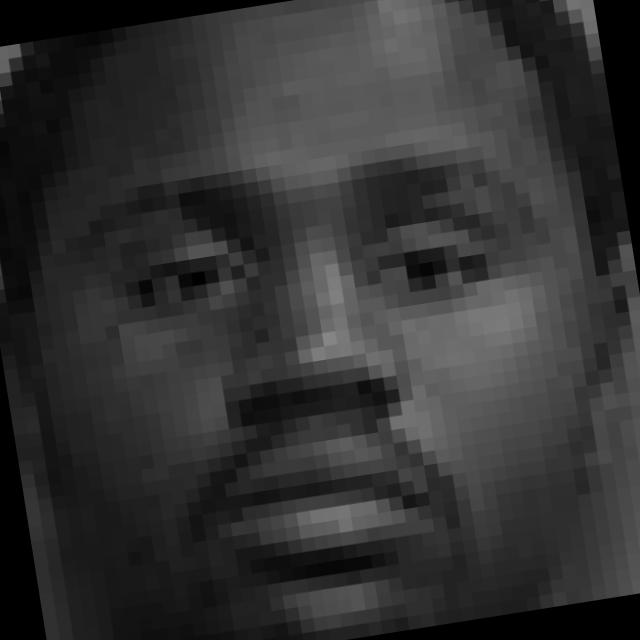neutral: (51, 119, 578, 628)
